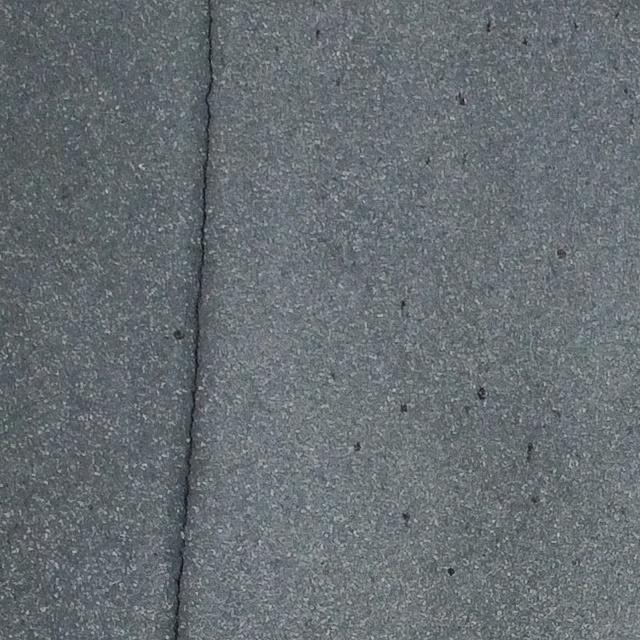LongitudinalCrack: (171, 1, 216, 638)
